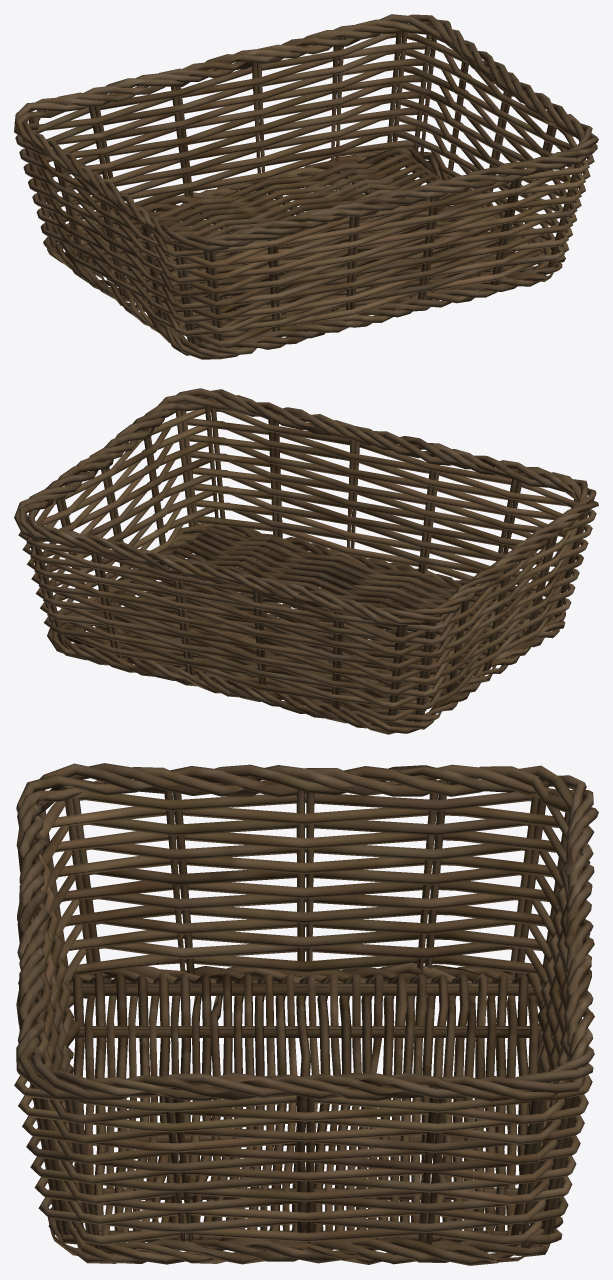
File: panier_osier.glb
3 renders of one model, top to bottom at view 1: azimuth 30°, elevation 25°; view 2: azimuth 150°, elevation 25°; view 3: azimuth 270°, elevation 25°, orthographic. The views are drawn at different scales.
Parts seen in each view (by area): view 1: wicker_basket_01; view 2: wicker_basket_01; view 3: wicker_basket_01.
Part boxes in pixels (x1=…): wicker_basket_01: x1=14, y1=14, x2=598, y2=359; wicker_basket_01: x1=14, y1=388, x2=598, y2=734; wicker_basket_01: x1=14, y1=763, x2=598, y2=1265.
Size of the model in its own units: 0.3832 by 0.1174 by 0.295.
Materials: 1 (1 with a texture image).
